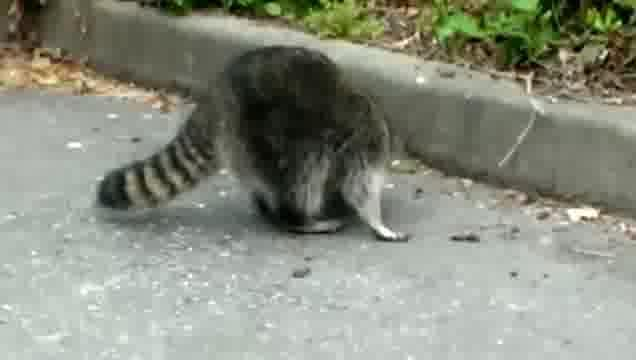raccoon: (87, 45, 417, 245)
